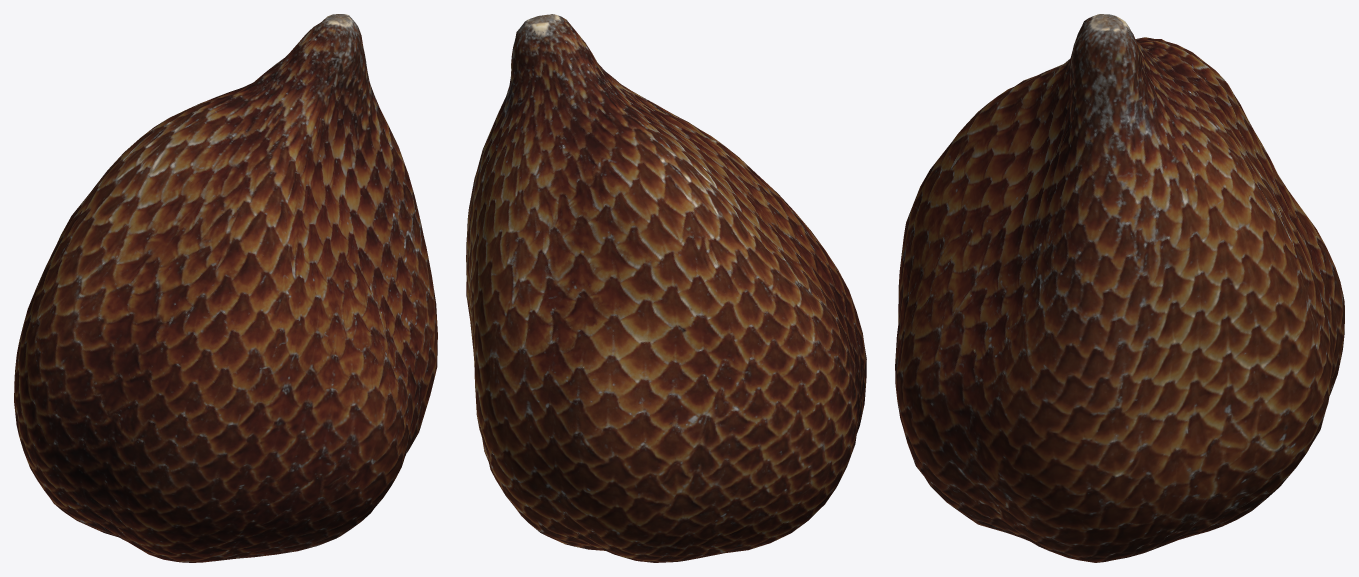
Rendered from Salak.fbx.
The picture shows the model from 3 angles, left to right: view 1: azimuth 30°, elevation 25°; view 2: azimuth 150°, elevation 25°; view 3: azimuth 270°, elevation 25°; orthographic projection. The views are drawn at different scales.
Parts seen in each view (by area): view 1: ssf_body; view 2: ssf_body; view 3: ssf_body.
Boxes of the visible parts, x1,y1,x2,y2 form: ssf_body: (14, 14, 437, 562); ssf_body: (466, 14, 866, 562); ssf_body: (895, 14, 1344, 562).
Size of the model in its own units: 5.39 by 6.54 by 4.75.
1 material, 1 textured.
